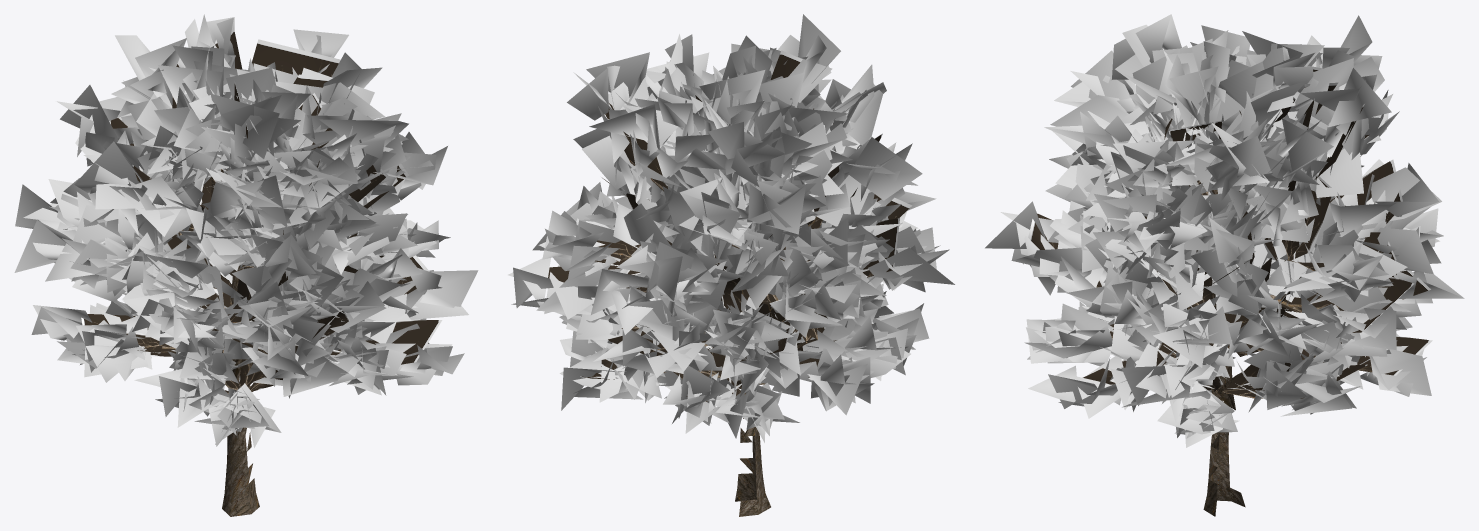
File: tree.fbx
The picture shows the model from 3 angles, left to right: view 1: azimuth 30°, elevation 25°; view 2: azimuth 150°, elevation 25°; view 3: azimuth 270°, elevation 25°; orthographic projection. The views are drawn at different scales.
Parts seen in each view (by area): view 1: Leaf_6.001; view 2: Leaf_6.001; view 3: Leaf_6.001.
Part boxes in pixels (box(x1,y1,x2,y2)): Leaf_6.001: box(14, 14, 478, 516); Leaf_6.001: box(508, 14, 954, 516); Leaf_6.001: box(985, 14, 1464, 516).
Size of the model in its own units: 688 by 713 by 657.
